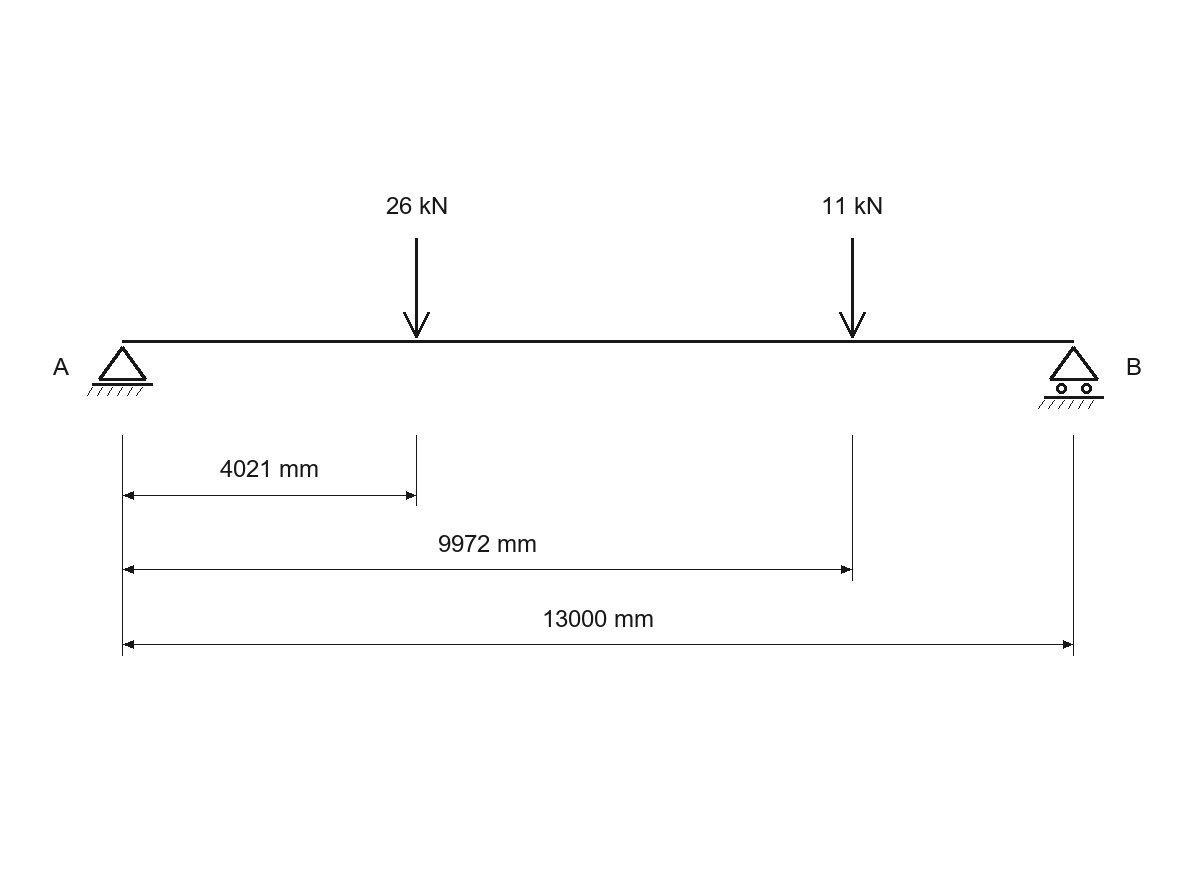pin_support: (87, 346, 153, 396)
point_load: (403, 238, 430, 338), (839, 238, 866, 338)
roller_support: (1038, 346, 1104, 409)
